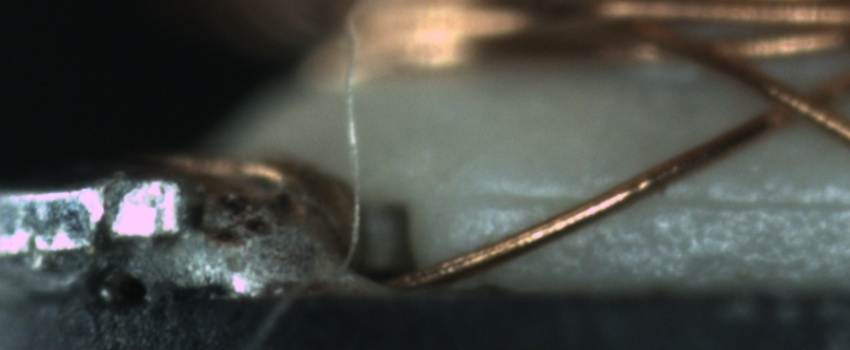CL: (748, 68, 842, 135)
DL: (483, 165, 850, 232)
